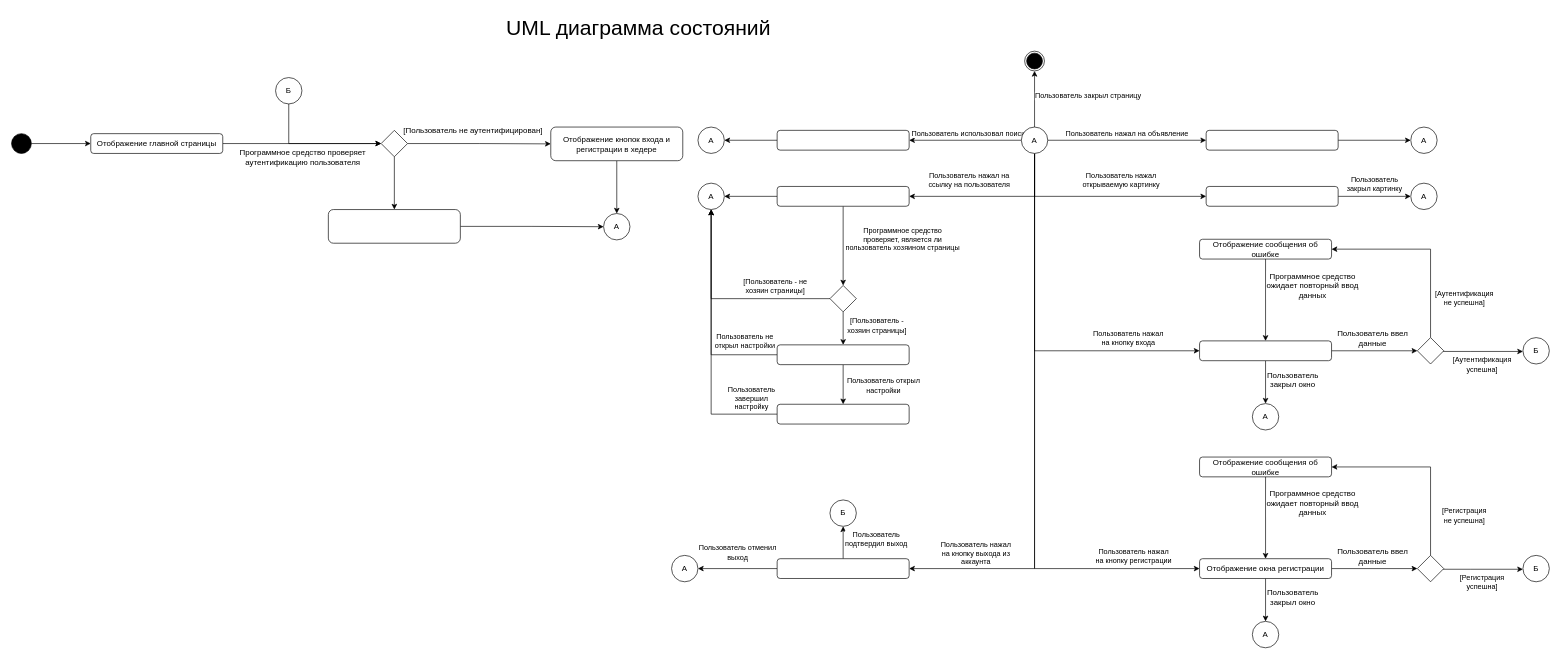
Some shapes in this 1561 by 659 pixel diagram are drawn without their labels. Each missing label, with the box of its shape:
Отображение картинки на весь экран: (1205, 186, 1338, 206)
Отображение меню аутентифицированного пользователя в хедере: (328, 209, 460, 243)
Отображение окна входа: (1199, 340, 1332, 361)
Отображение окна настроек: (776, 404, 909, 424)
Отображение окна с подтверждением: (776, 558, 909, 578)
Отображение страницы объявления: (1205, 130, 1338, 150)
Отображение страницы пользователя: (776, 186, 909, 206)
Отображение страницы результатов поиска: (776, 130, 909, 150)
Отображение элементов управления аккаунтом: (776, 344, 909, 365)
